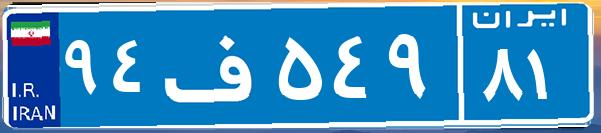1: (525, 38, 570, 115)
4: (330, 28, 385, 110), (110, 28, 158, 105)
5: (273, 28, 330, 110)
8: (475, 38, 525, 113)
9: (385, 28, 445, 110), (57, 26, 110, 107)
ف: (158, 15, 273, 115)
